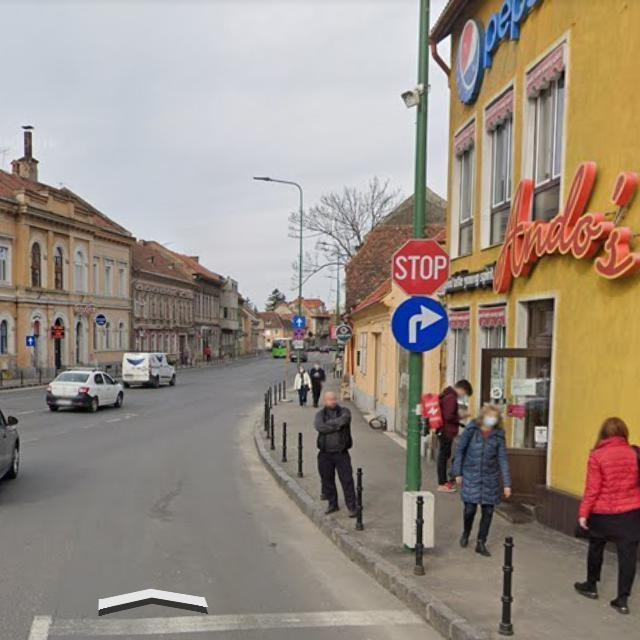prio_stop: (390, 238, 450, 296)
